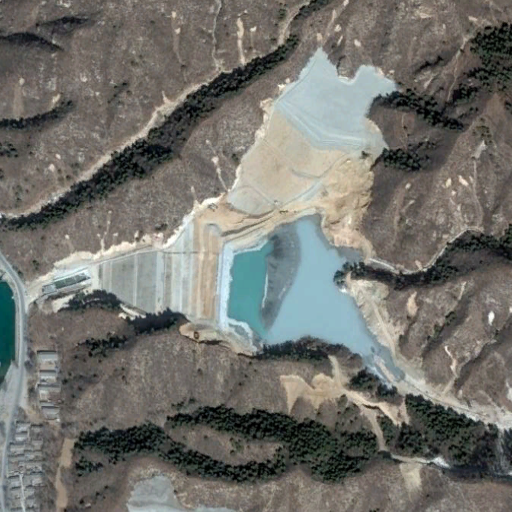tp: (96, 214, 401, 385)
